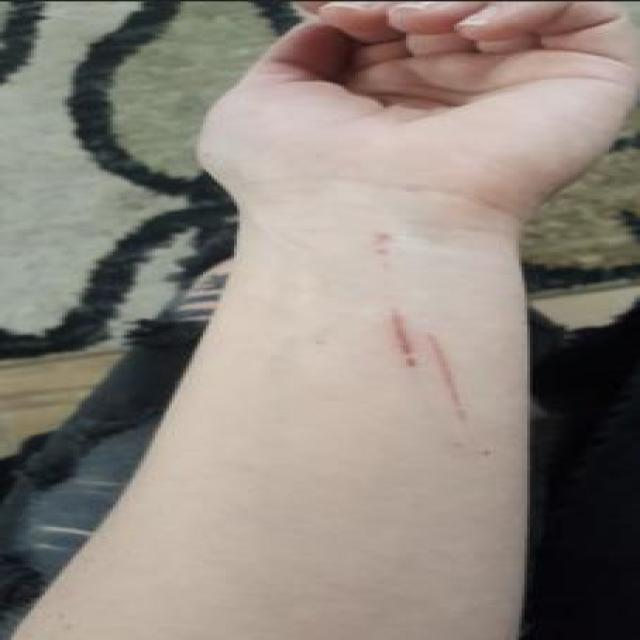Cut: (361, 229, 479, 437)
